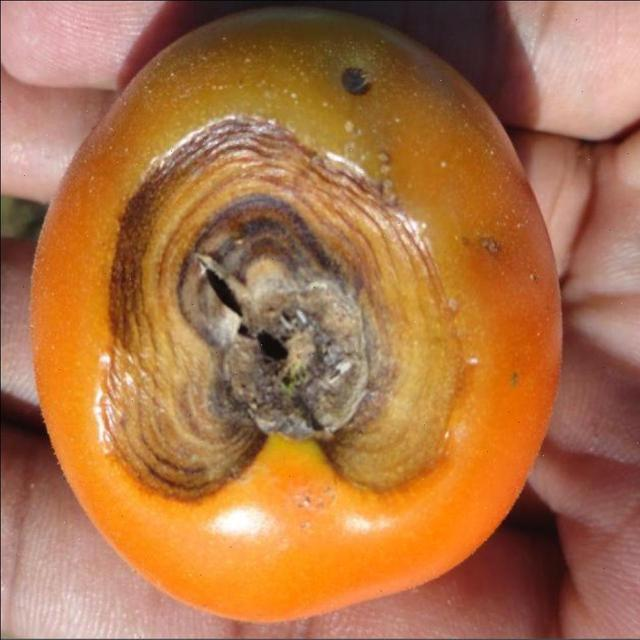Sunscald Fruit: (52, 77, 347, 349)
